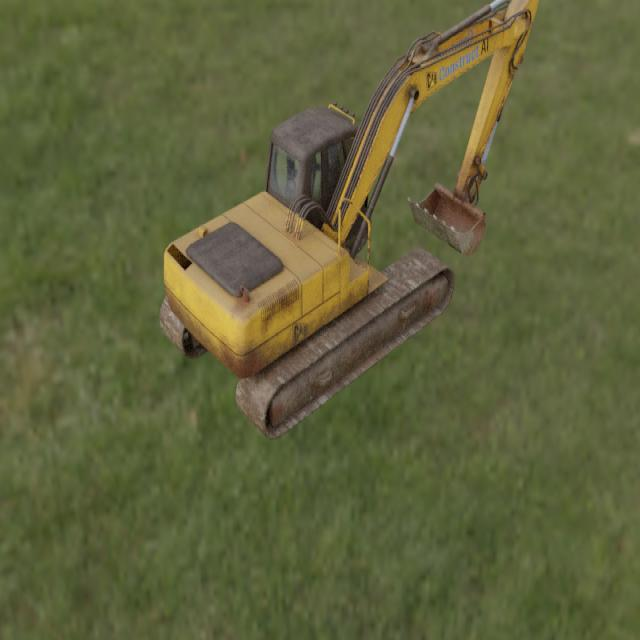excavator: (158, 0, 539, 441)
